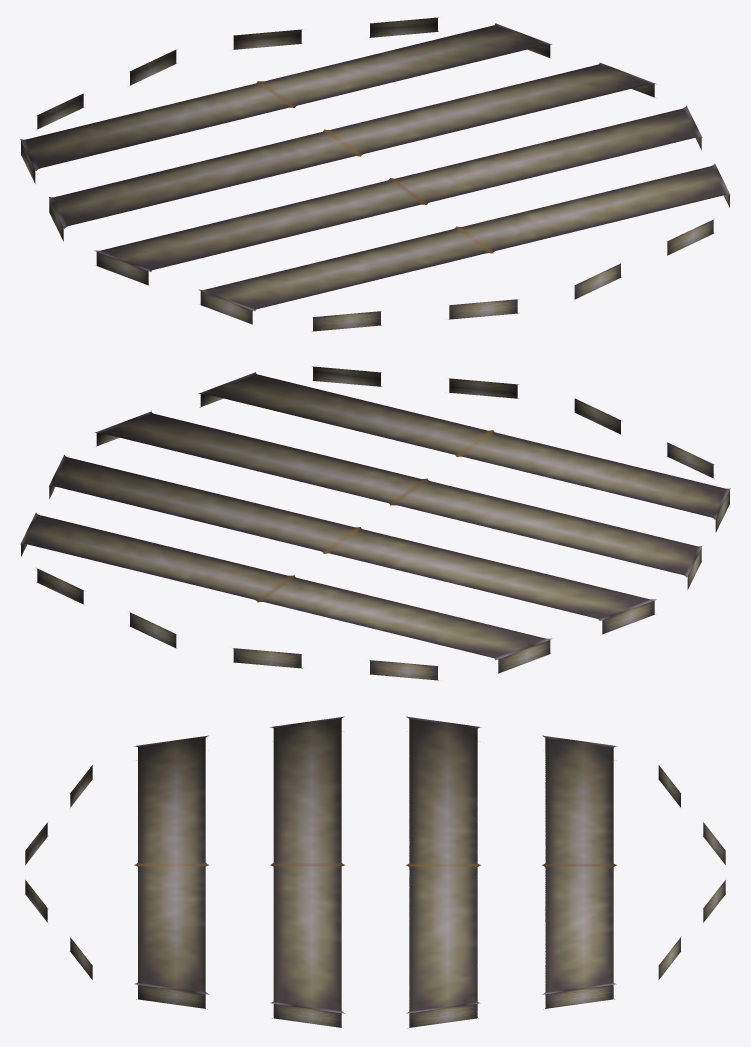
The picture shows the model from 3 angles, top to bottom: view 1: azimuth 30°, elevation 25°; view 2: azimuth 150°, elevation 25°; view 3: azimuth 270°, elevation 25°; orthographic projection. The views are drawn at different scales.
Visible parts, largest first — view 1: T1L5M009_9; view 2: T1L5M009_9; view 3: T1L5M009_9.
Boxes of the visible parts, bbox=[...] form: T1L5M009_9: bbox=[20, 17, 730, 331]; T1L5M009_9: bbox=[20, 366, 730, 680]; T1L5M009_9: bbox=[25, 716, 725, 1028].
Bounding box in the file's own units: 1.81 × 0.041 × 1.81.
